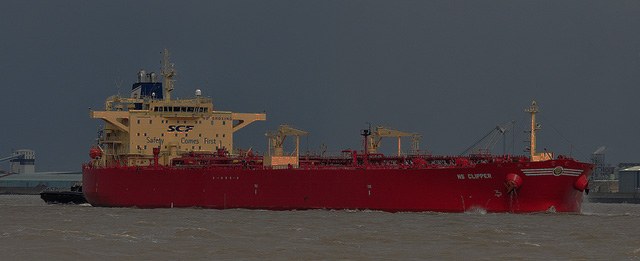tanker: (78, 45, 592, 214)
